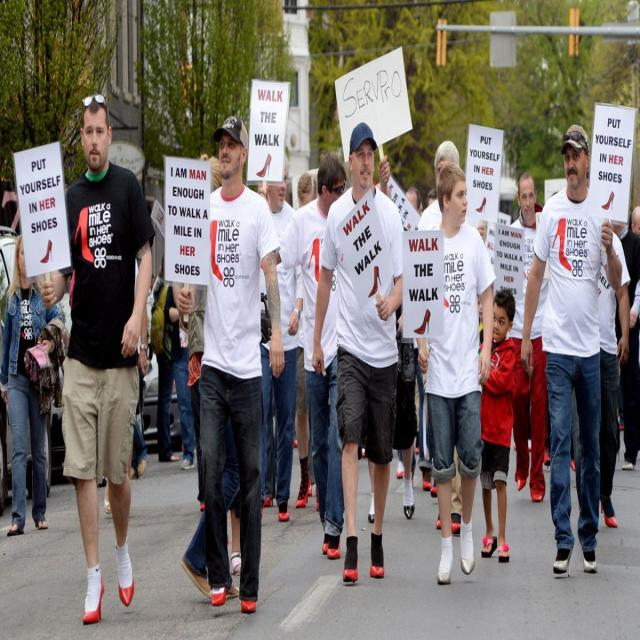body: (37, 89, 155, 626), (174, 111, 287, 618), (519, 120, 623, 578), (311, 119, 408, 588), (413, 158, 498, 588), (178, 154, 248, 607), (274, 151, 347, 560), (86, 173, 149, 516), (0, 227, 64, 538), (570, 229, 632, 530), (364, 180, 416, 526), (258, 149, 305, 523), (195, 155, 238, 512), (507, 169, 548, 504), (474, 287, 519, 568), (295, 172, 319, 512), (171, 282, 211, 476), (610, 222, 640, 473), (149, 248, 181, 464), (414, 141, 462, 231), (228, 514, 243, 578), (475, 287, 487, 338), (404, 185, 424, 215), (425, 187, 438, 210), (631, 204, 640, 234)
